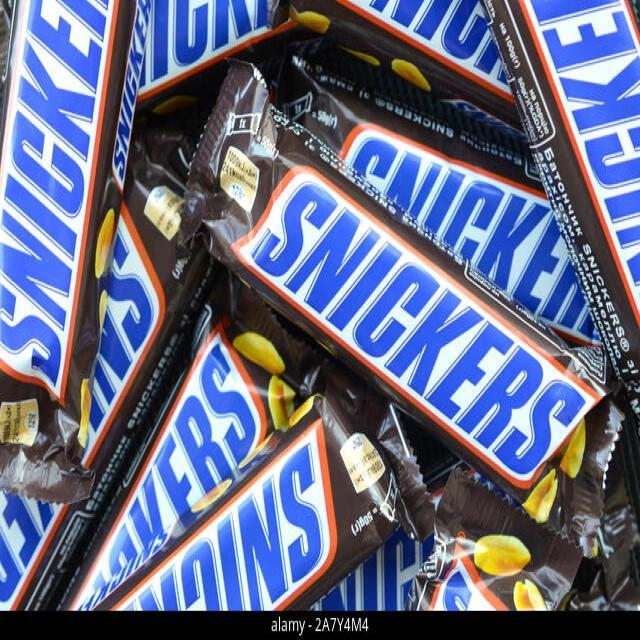snickers_chocolate: (242, 96, 582, 466), (0, 8, 153, 384), (498, 13, 640, 308), (113, 330, 227, 640)
